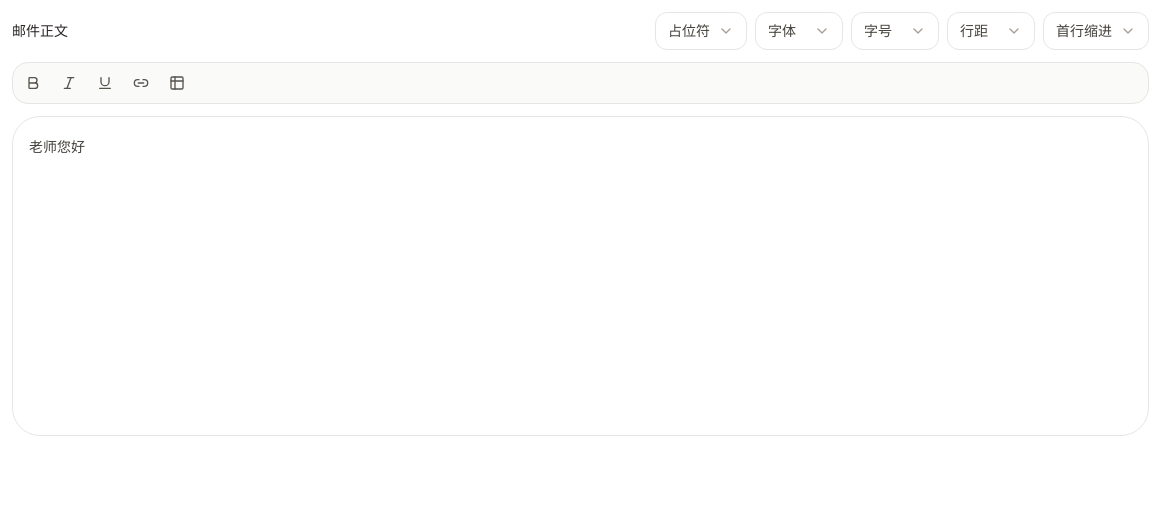
it: EmailTemplateEditor › shows table editing actions when editing a table
Click the button named "插入表格" at (177, 83), box [161,67,193,99]
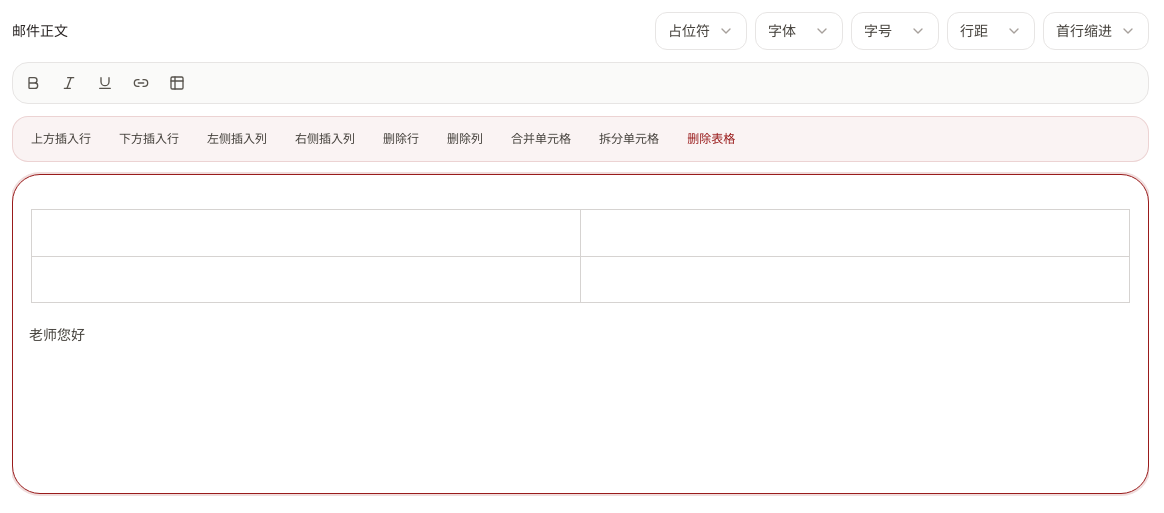
Now the element named "表格操作" is shown, box [12,116,1149,162]
Now the button "上方插入行" is shown, box [19,123,103,155]
Now the button "右侧插入列" is shown, box [283,123,367,155]
